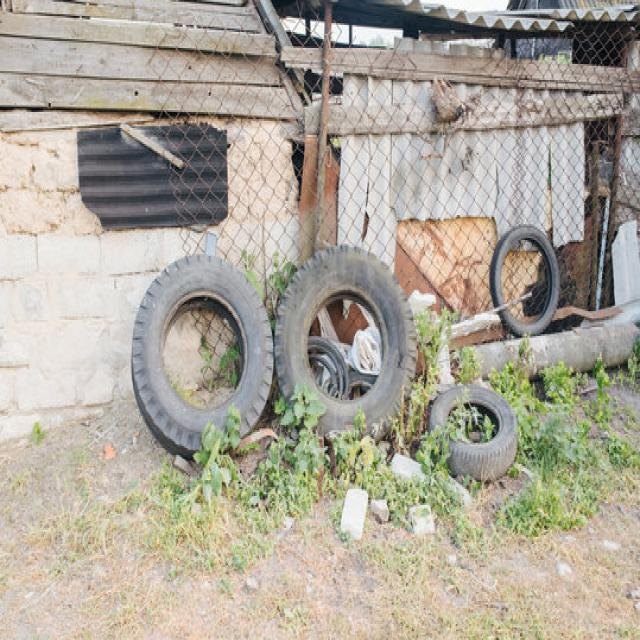tire: (131, 252, 274, 458), (273, 242, 418, 442), (428, 380, 518, 482), (489, 222, 559, 336)
